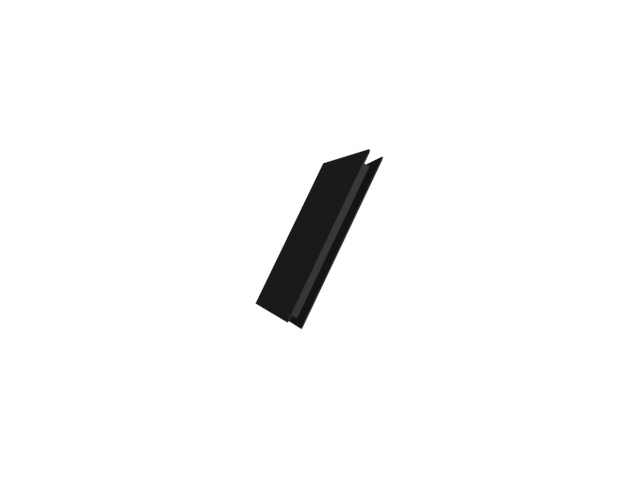ring_binder: (249, 145, 384, 336)
